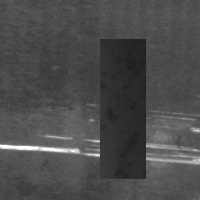pitted_surface: (100, 39, 146, 179)
scratches: (1, 135, 199, 167), (85, 101, 198, 131)
